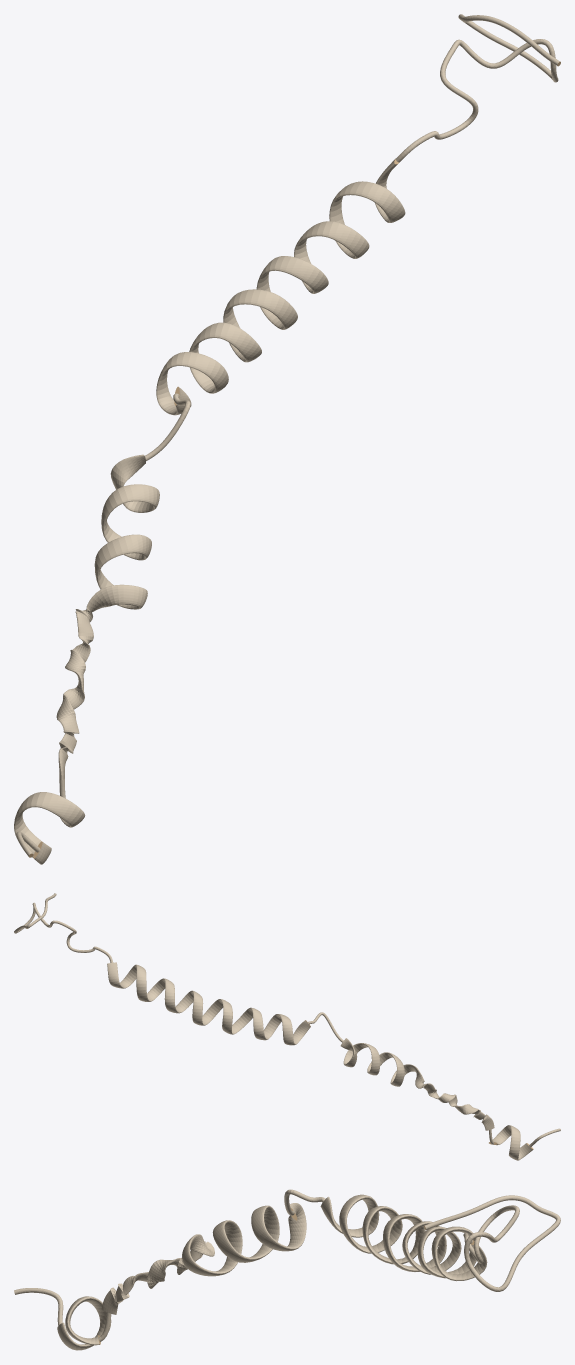
The model's file is HelixHelixfCoil.dae.
3 views of the same model, one above another, from view 1: azimuth 30°, elevation 25°; view 2: azimuth 150°, elevation 25°; view 3: azimuth 270°, elevation 25° (orthographic). The views are drawn at different scales.
Visible parts, largest first — view 1: Shape_IndexedTriangleStripSet_078; view 2: Shape_IndexedTriangleStripSet_078; view 3: Shape_IndexedTriangleStripSet_078.
Boxes of the visible parts, box(x1,y1,x2,y2) form: Shape_IndexedTriangleStripSet_078: box(14, 14, 560, 864); Shape_IndexedTriangleStripSet_078: box(14, 893, 560, 1160); Shape_IndexedTriangleStripSet_078: box(14, 1189, 560, 1350).
Size of the model in its own units: 83.97 by 55.46 by 51.
